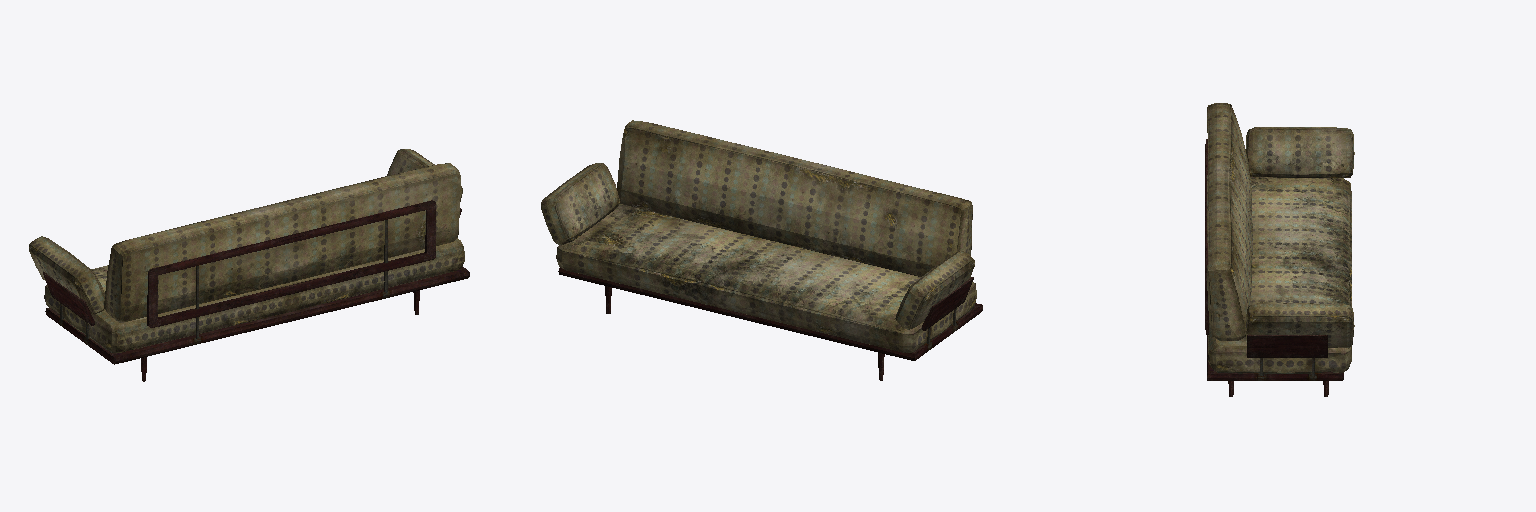
The picture shows the model from 3 angles: view 1: azimuth 30°, elevation 25°; view 2: azimuth 150°, elevation 25°; view 3: azimuth 270°, elevation 25°; orthographic projection.
Visible parts, largest first — view 1: Couch_0; view 2: Couch_0; view 3: Couch_0.
Part boxes in pixels (left/top/right/bottom): Couch_0: left=29, top=149, right=469, bottom=381; Couch_0: left=541, top=120, right=982, bottom=380; Couch_0: left=1205, top=103, right=1354, bottom=396.
Size of the model in its own units: 174 by 63.06 by 57.72.
1 materials, 1 textured.